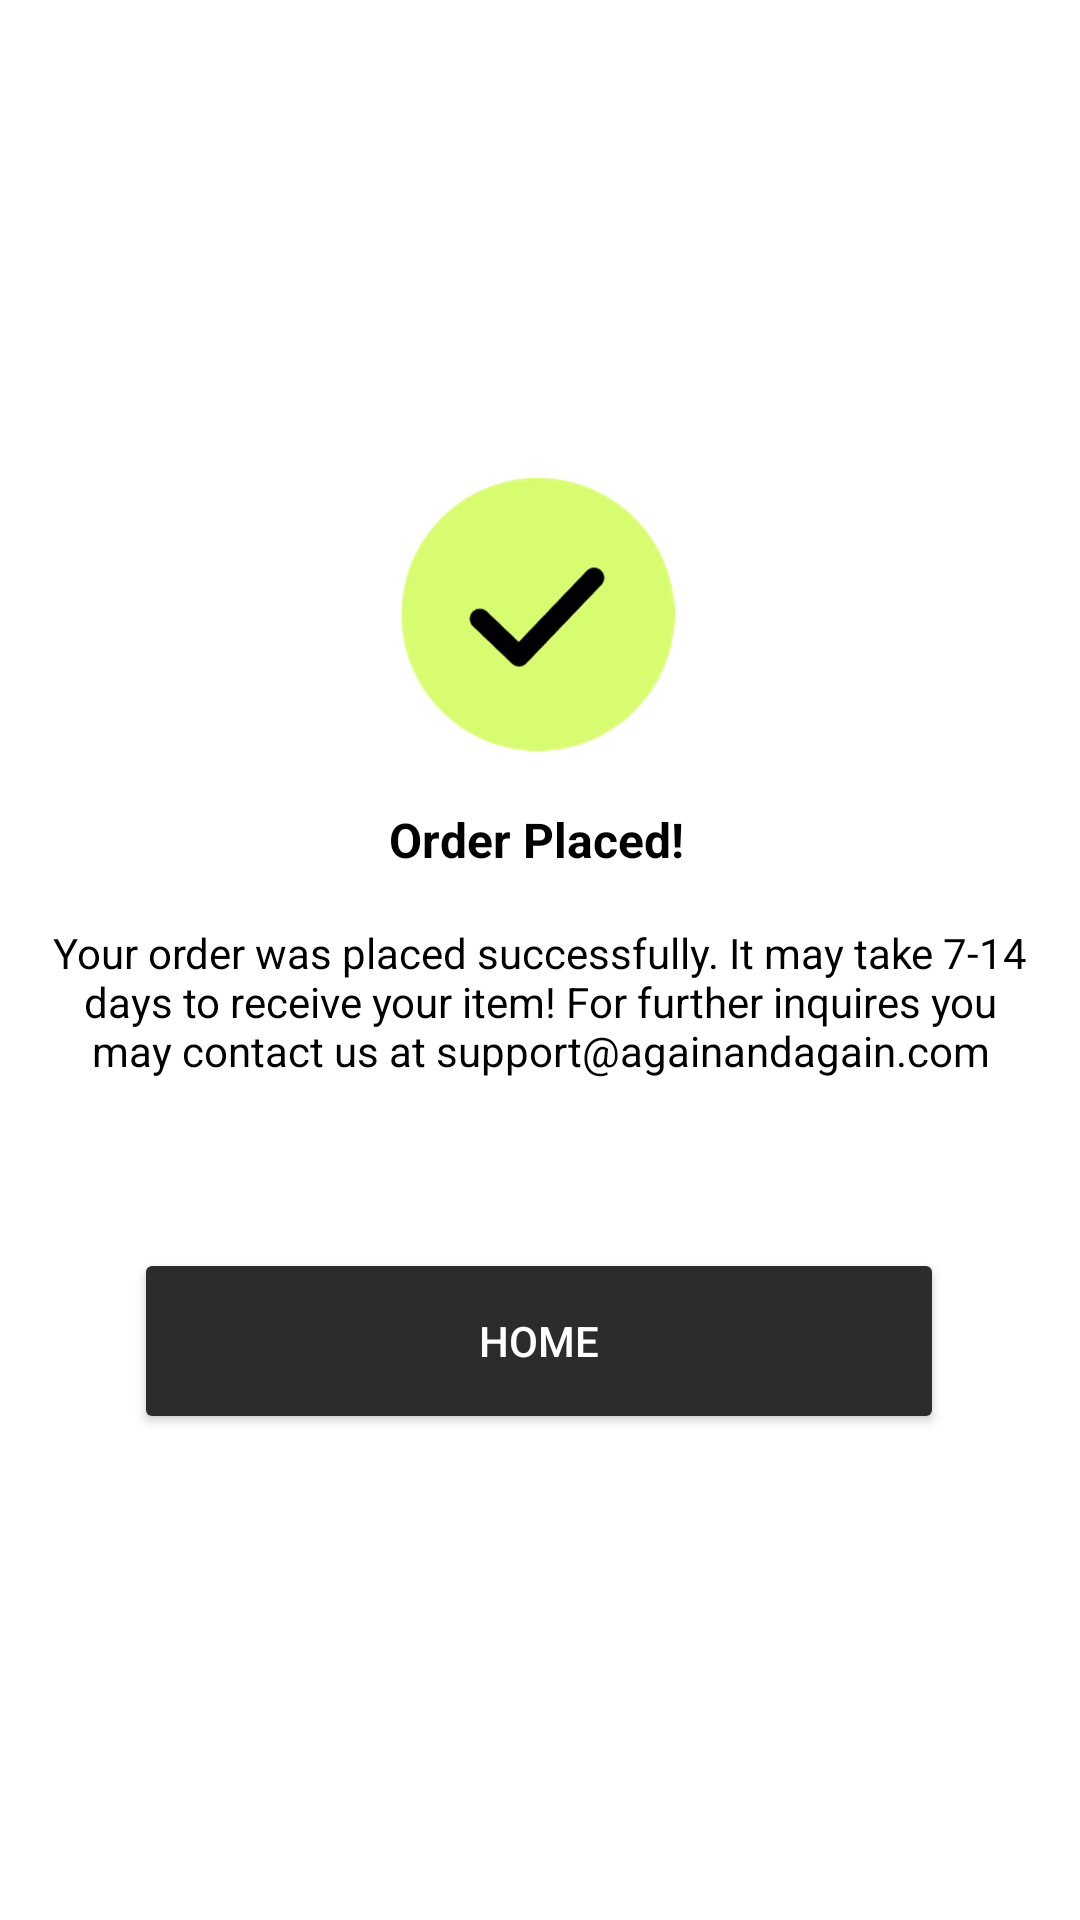

Screen size 1080px x 1920px. Icon name, then its center in pixels as point (x, y):
checkmark: point (538, 614)
